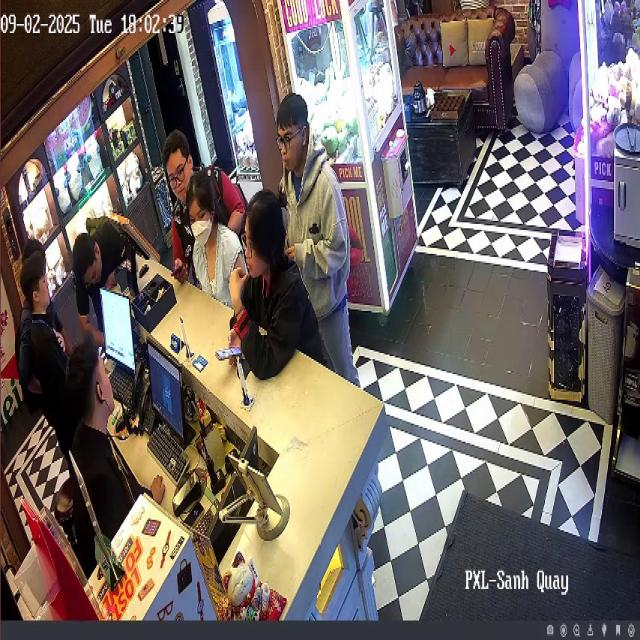khach: (276, 84, 354, 406), (224, 182, 330, 405), (156, 125, 248, 278), (188, 167, 246, 310), (65, 204, 134, 323)
nhan vien: (55, 336, 159, 535), (17, 249, 64, 432)
